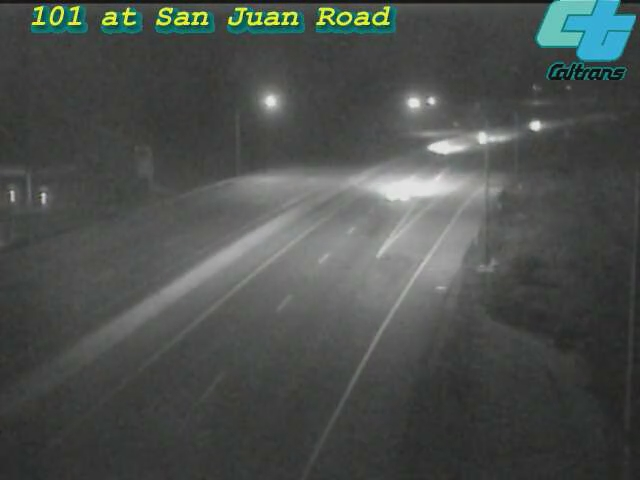vehicle: (363, 152, 443, 232), (507, 102, 557, 152), (457, 114, 507, 164), (417, 123, 467, 173)
